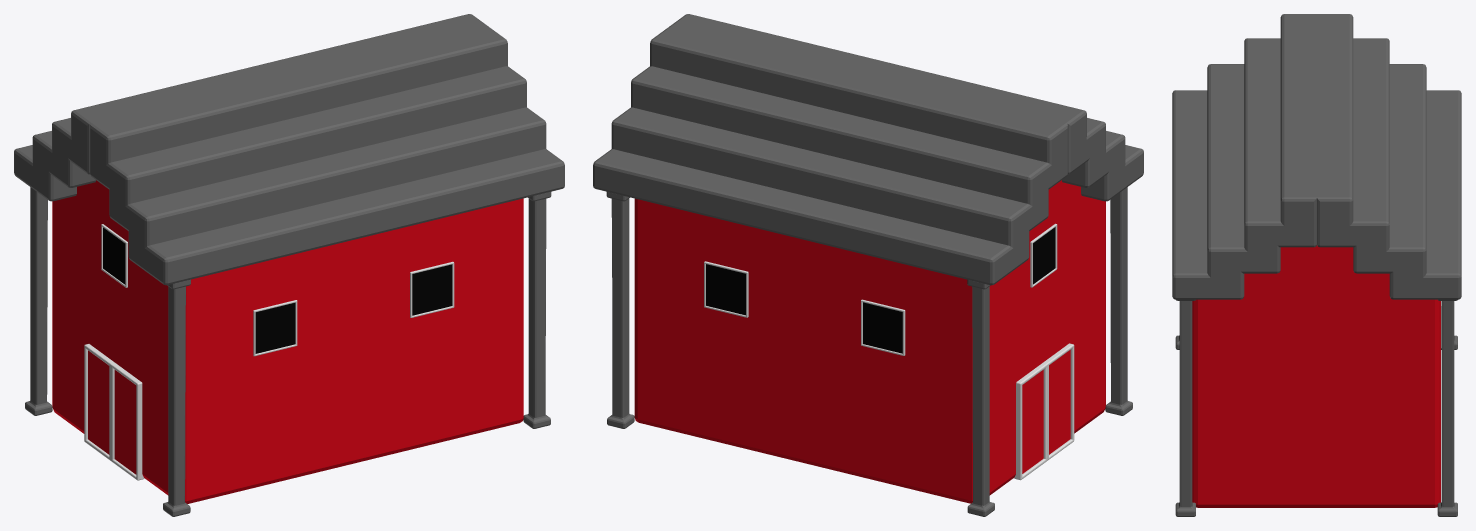
File: Barn.fbx
3 renders of one model, left to right at view 1: azimuth 30°, elevation 25°; view 2: azimuth 150°, elevation 25°; view 3: azimuth 270°, elevation 25°, orthographic. The views are drawn at different scales.
Visible parts, largest first — view 1: Cube, Cube.002, Cube.001, Cube.008, Cube.006, Cube.004, Cube.003, Cube.011, Cube.012, Cube.007; view 2: Cube, Cube.001, Cube.002, Cube.008, Cube.005, Cube.003, Cube.004, Cube.010, Cube.009, Cube.007; view 3: Cube, Cube.001, Cube.002, Cube.005, Cube.006.
Part boxes in pixels (x1=…): Cube: x1=52, y1=180, x2=523, y2=503; Cube.002: x1=90, y1=26, x2=564, y2=285; Cube.001: x1=14, y1=14, x2=488, y2=201; Cube.008: x1=84, y1=344, x2=144, y2=480; Cube.006: x1=523, y1=192, x2=551, y2=428; Cube.004: x1=163, y1=279, x2=190, y2=516; Cube.003: x1=25, y1=187, x2=52, y2=415; Cube.011: x1=253, y1=300, x2=297, y2=356; Cube.012: x1=410, y1=261, x2=454, y2=317; Cube.007: x1=101, y1=224, x2=127, y2=287; Cube: x1=634, y1=180, x2=1105, y2=503; Cube.001: x1=593, y1=26, x2=1067, y2=285; Cube.002: x1=669, y1=14, x2=1143, y2=201; Cube.008: x1=1014, y1=343, x2=1074, y2=480; Cube.005: x1=606, y1=192, x2=634, y2=428; Cube.003: x1=967, y1=279, x2=994, y2=516; Cube.004: x1=1105, y1=187, x2=1132, y2=415; Cube.010: x1=704, y1=261, x2=748, y2=317; Cube.009: x1=861, y1=299, x2=905, y2=355; Cube.007: x1=1030, y1=223, x2=1057, y2=287; Cube: x1=1192, y1=245, x2=1440, y2=507; Cube.001: x1=1316, y1=14, x2=1461, y2=299; Cube.002: x1=1172, y1=14, x2=1316, y2=299; Cube.005: x1=1437, y1=299, x2=1457, y2=516; Cube.006: x1=1175, y1=299, x2=1195, y2=516.
Size of the model in its own units: 1067 by 871 by 702.
